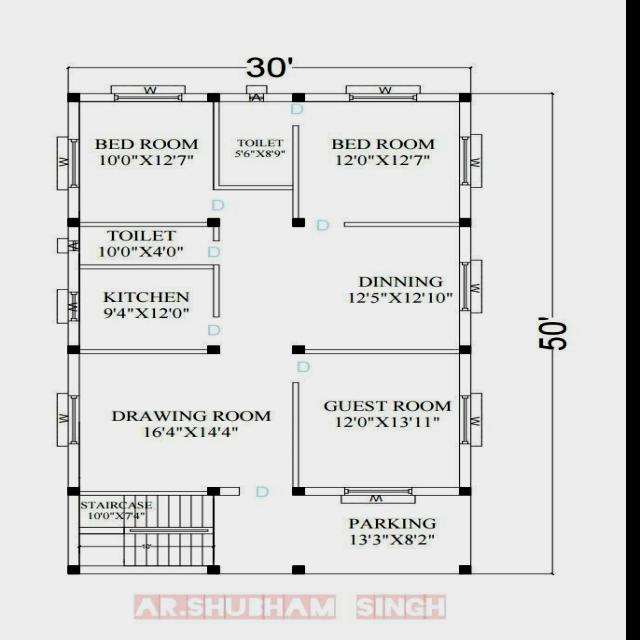column: (454, 216, 478, 231), (64, 562, 86, 578), (62, 343, 86, 357), (286, 562, 310, 576), (200, 484, 223, 498), (204, 90, 224, 106), (456, 562, 476, 578), (63, 484, 84, 498), (287, 343, 309, 356), (64, 90, 84, 104), (204, 216, 224, 230), (64, 216, 84, 230), (290, 484, 310, 498), (454, 485, 474, 499), (202, 563, 225, 575), (456, 90, 475, 104), (454, 344, 476, 356), (202, 343, 222, 356), (290, 90, 308, 104), (288, 215, 306, 229)
